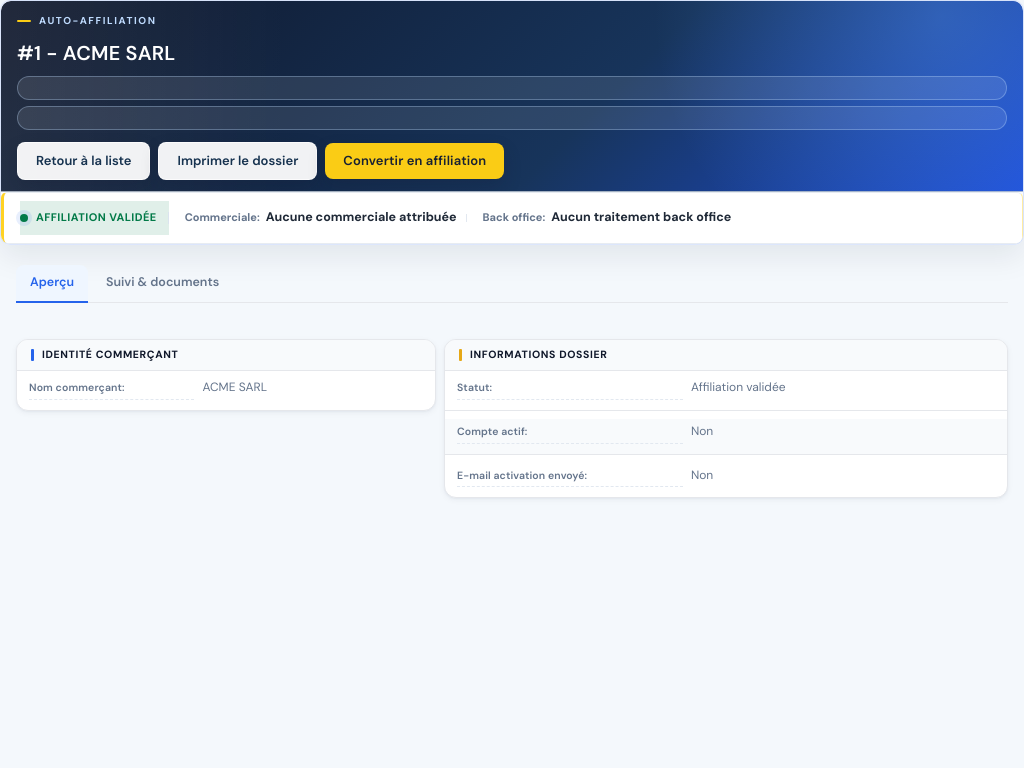
Test: SupervisorAffiliationDetailPage › un commercial peut convertir un dossier accepte en affiliation (transmission au back office)
Click the button "Convertir en affiliation".
click(415, 161)  # box x1=325 y1=143 x2=504 y2=179
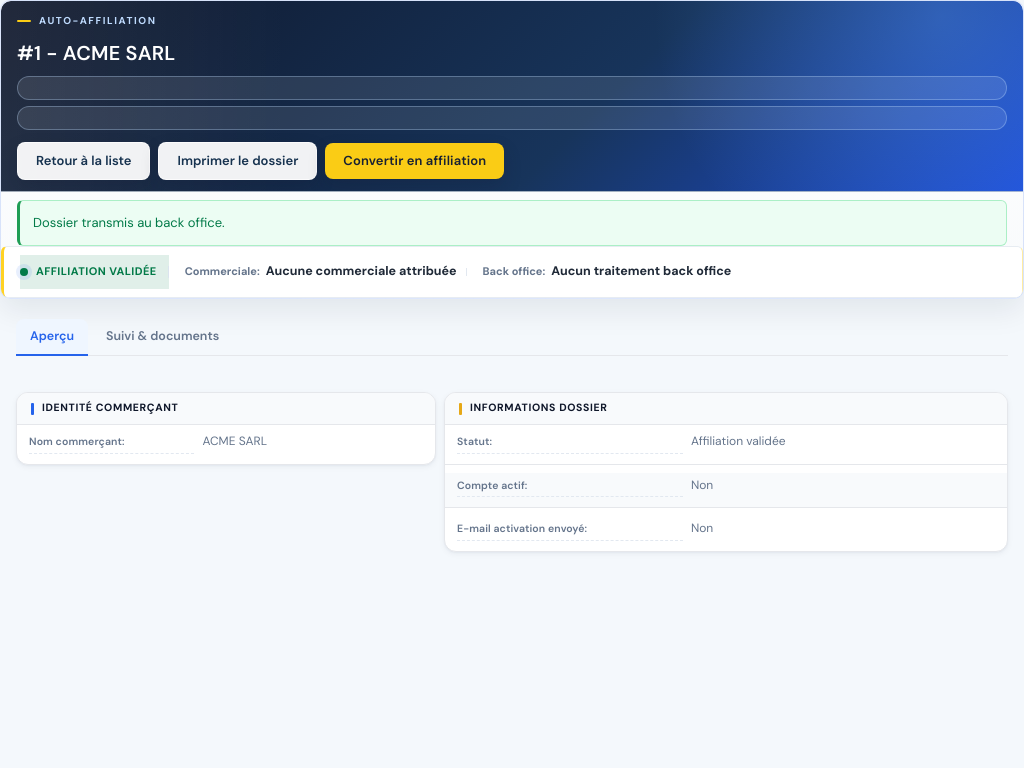
expect the text "Dossier transmis au back office." is shown: met, box x1=17 y1=200 x2=1007 y2=246
